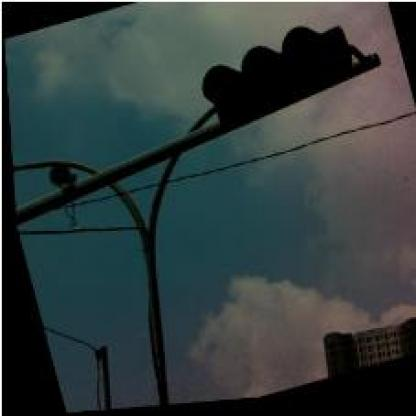green: (190, 16, 363, 134)
